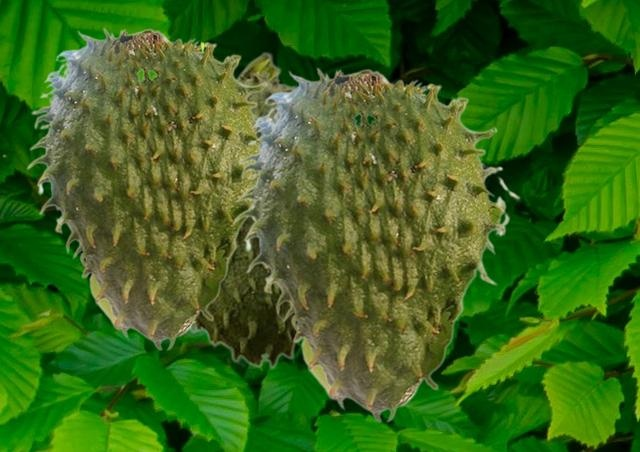guyabano: (232, 67, 520, 422), (26, 27, 269, 350), (189, 50, 301, 368)
